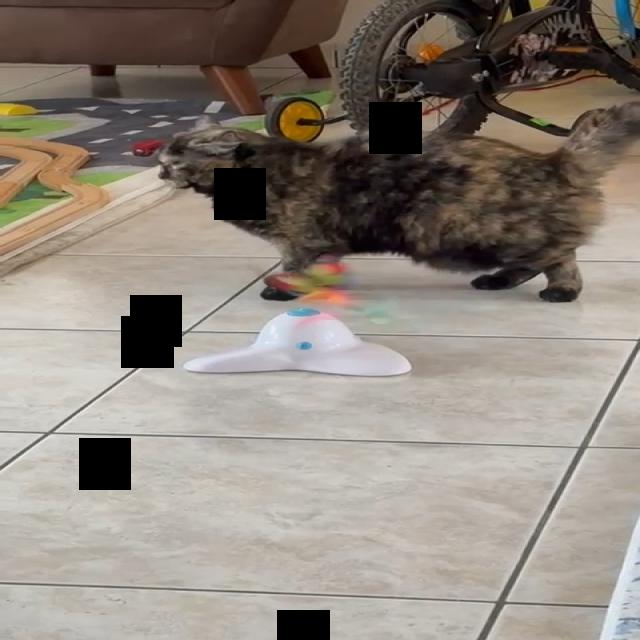authorized: (154, 100, 638, 303)
